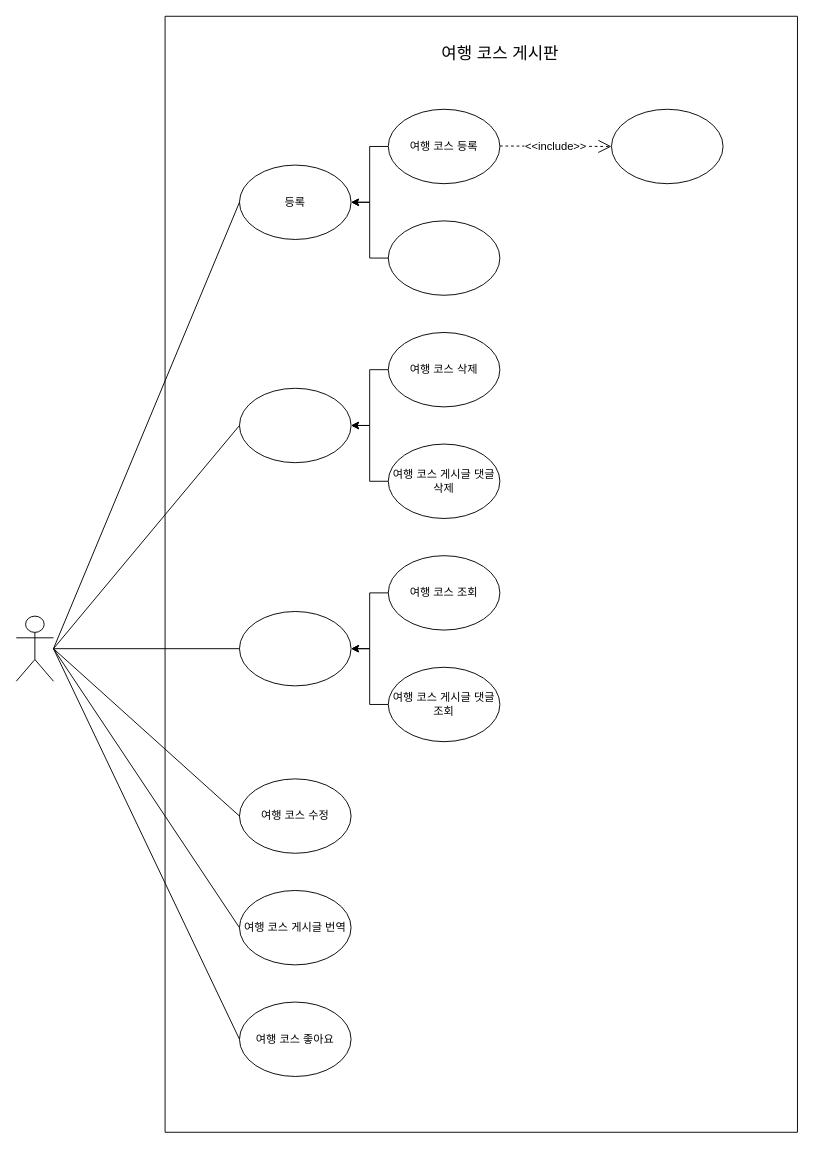
Image size: 814x1149. Some labels were removed from this diagram. Each missing label, with the centre of its shape:
"관광지 검색" goes at point (667, 146).
"사용자" goes at point (34, 648).
"삭제" goes at point (295, 425).
"여행 코스 게시글 댓글 등록" goes at point (443, 257).
"조회" goes at point (295, 648).
